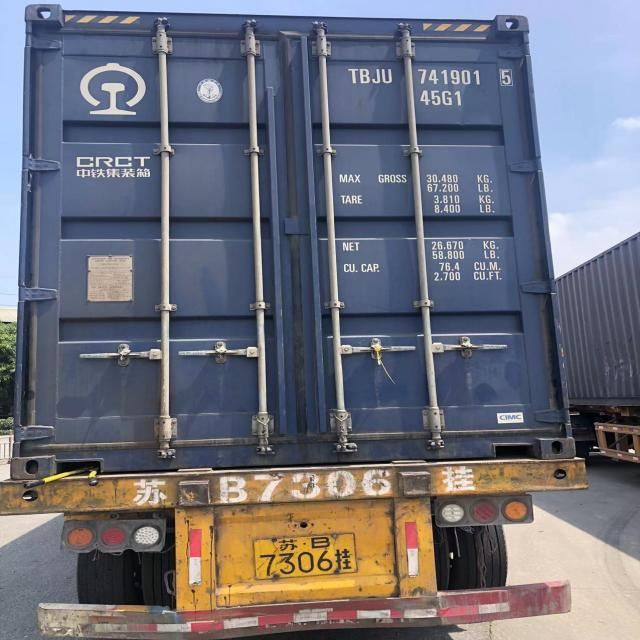ISO: (420, 89, 462, 108)
container_number: (354, 64, 518, 88)
